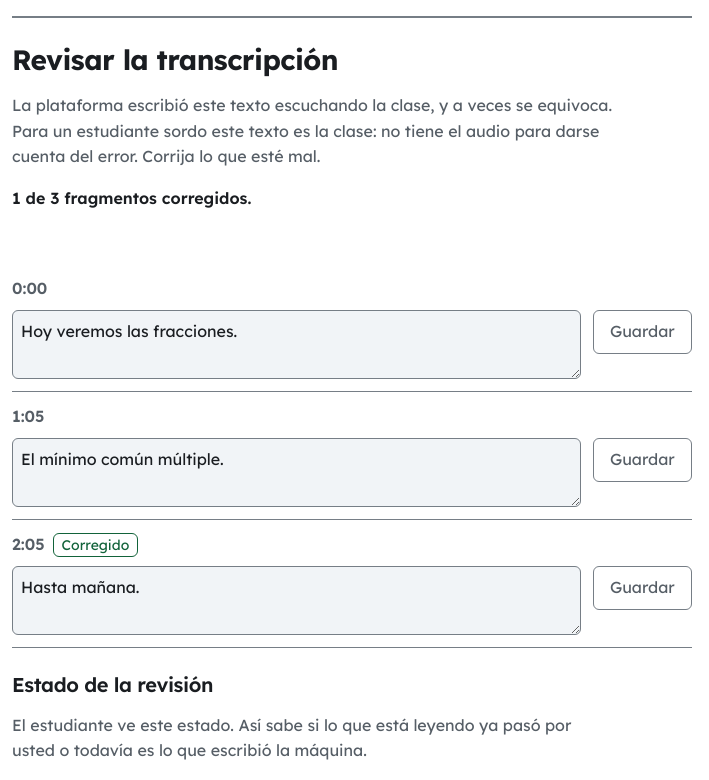
Test case: Revisión de la transcripción › si falla el guardado, el texto corregido no se pierde
Replace the text in the text box named "empieza en el segundo 0" with "Texto corregido a mano" at coordinates (296, 345), box [12,310,581,379]
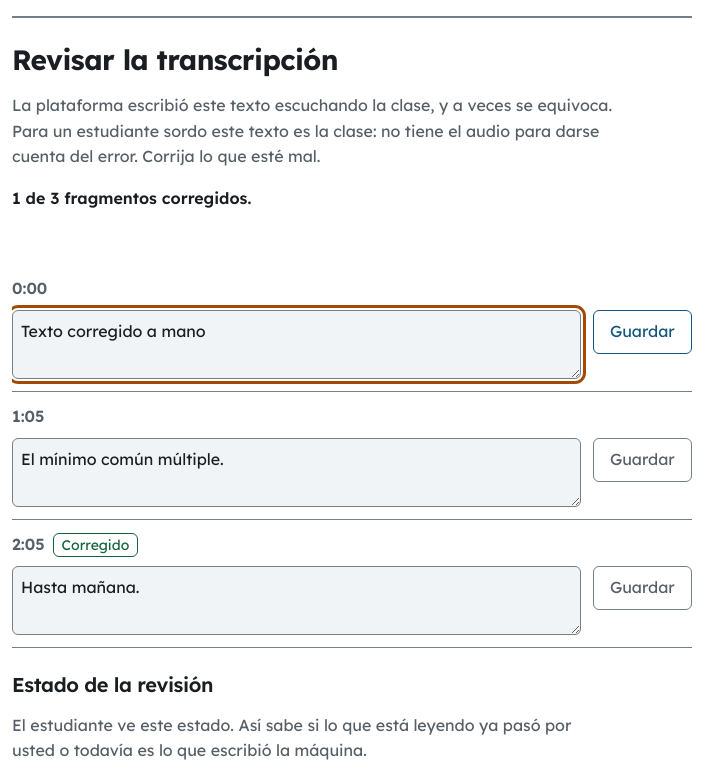
Click the button named "empieza en el segundo 0" at coordinates (642, 332), box [593,310,692,354]
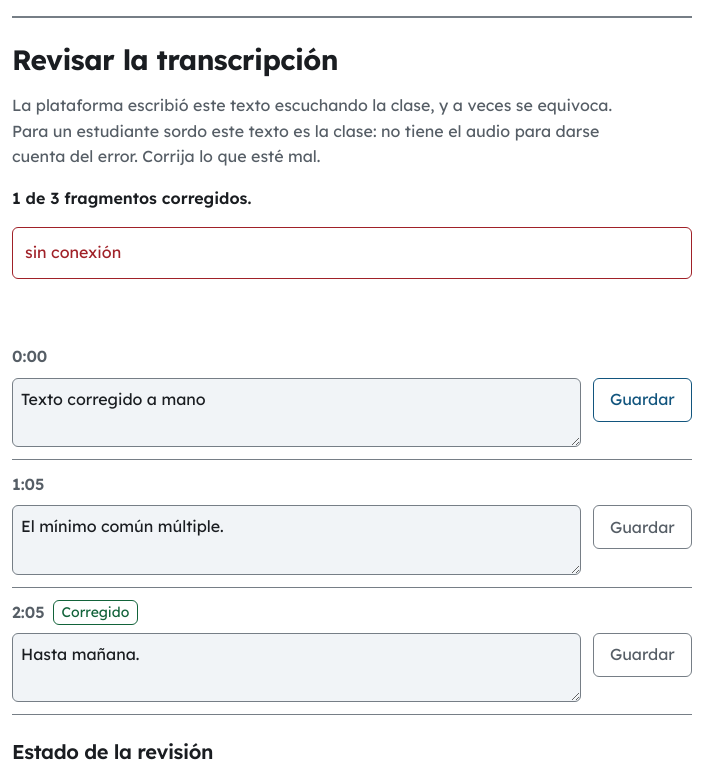
expect the message reads "sin conexión": met, box [25,242,121,262]
